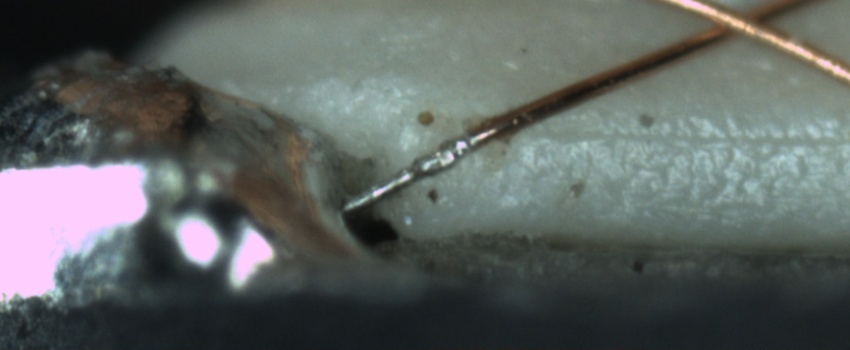CL: (682, 2, 800, 46)
DL: (530, 103, 850, 166)
TS: (340, 134, 481, 211)
TTCW: (339, 99, 534, 211)
